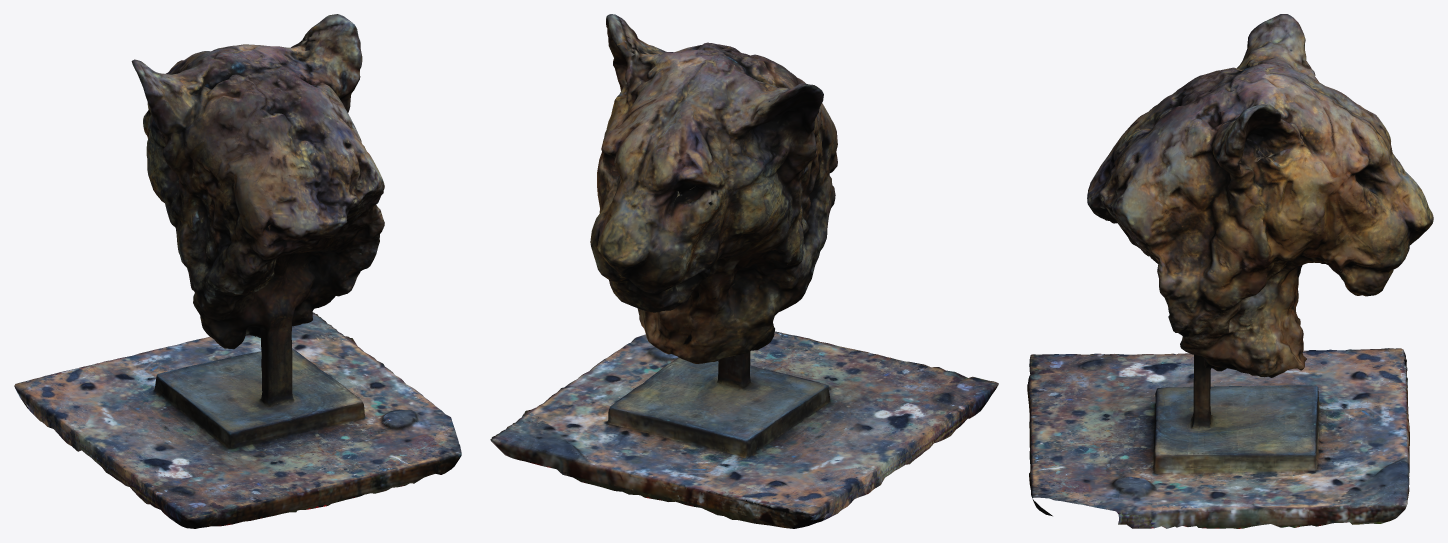
The model's file is kop_3dsmax_lowpoly - smooth.FBX.
3 views of the same model, side by side, from view 1: azimuth 30°, elevation 25°; view 2: azimuth 150°, elevation 25°; view 3: azimuth 270°, elevation 25° (orthographic). The views are drawn at different scales.
Parts seen in each view (by area): view 1: kop LP; view 2: kop LP; view 3: kop LP.
Part boxes in pixels (x1,y1,x2,y2): kop LP: (14,14,461,528); kop LP: (490,14,998,528); kop LP: (1027,14,1433,528).
Bounding box in the file's own units: 20.55 × 24.56 × 22.4.
